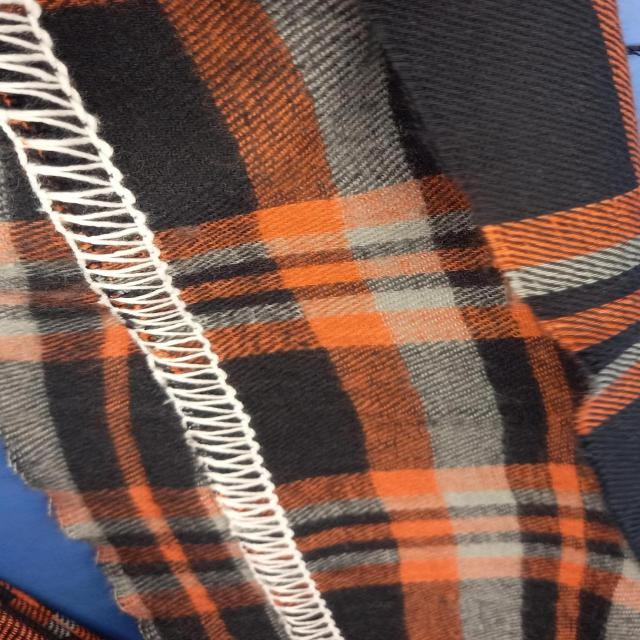gray stitch: (3, 0, 232, 374), (164, 379, 350, 639)
